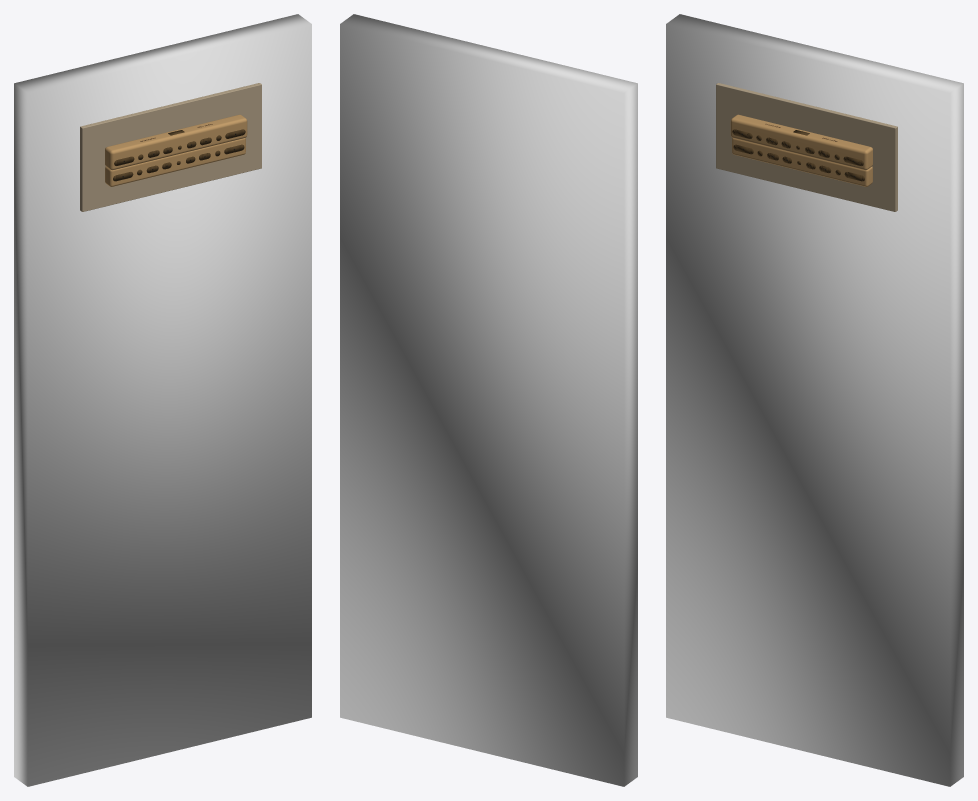
Rendered from beastmaker-2000-series-hangboard_v003.glb.
3 renders of one model, left to right at view 1: azimuth 30°, elevation 25°; view 2: azimuth 150°, elevation 25°; view 3: azimuth 330°, elevation 25°, orthographic.
Parts seen in each view (by area): view 1: beastmaker-2000-series-hangboard_wall, beastmaker-2000-series-hangboard_ply, beastmaker-2000-series-hangboard_wood, beastmaker-2000-series-hangboard_wood.001, beastmaker-2000-series-hangboard_hold; view 2: beastmaker-2000-series-hangboard_wall; view 3: beastmaker-2000-series-hangboard_wall, beastmaker-2000-series-hangboard_ply, beastmaker-2000-series-hangboard_wood, beastmaker-2000-series-hangboard_wood.001, beastmaker-2000-series-hangboard_hold.
Part boxes in pixels (x1=…): beastmaker-2000-series-hangboard_wall: x1=14, y1=14, x2=311, y2=786; beastmaker-2000-series-hangboard_ply: x1=80, y1=83, x2=261, y2=211; beastmaker-2000-series-hangboard_wood: x1=105, y1=114, x2=247, y2=170; beastmaker-2000-series-hangboard_wood.001: x1=105, y1=138, x2=245, y2=186; beastmaker-2000-series-hangboard_hold: x1=113, y1=129, x2=245, y2=181; beastmaker-2000-series-hangboard_wall: x1=340, y1=14, x2=637, y2=786; beastmaker-2000-series-hangboard_wall: x1=666, y1=14, x2=963, y2=786; beastmaker-2000-series-hangboard_ply: x1=716, y1=83, x2=897, y2=211; beastmaker-2000-series-hangboard_wood: x1=730, y1=114, x2=872, y2=170; beastmaker-2000-series-hangboard_wood.001: x1=732, y1=138, x2=872, y2=186; beastmaker-2000-series-hangboard_hold: x1=732, y1=129, x2=864, y2=181.
Bounding box in the file's own units: 1.2 × 2.8 × 0.1741.
